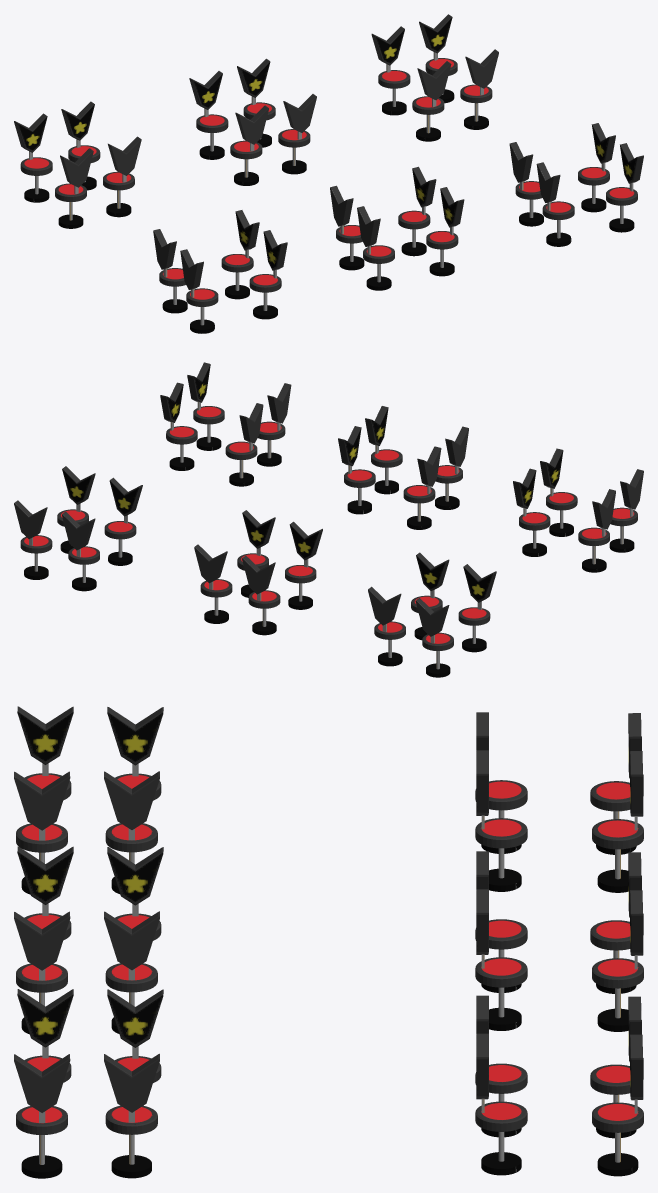
File: mdlSillas.obj
The picture shows the model from 3 angles, top to bottom: view 1: azimuth 30°, elevation 25°; view 2: azimuth 150°, elevation 25°; view 3: azimuth 270°, elevation 25°; orthographic projection. The views are drawn at different scales.
Parts seen in each view (by area): view 1: mdlSilla.011, mdlSilla.003, mdlSilla.007, mdlSilla.009, mdlSilla.004, mdlSilla.008, mdlSilla.001, mdlSilla.005, mdlSilla, mdlSilla.022, mdlSilla.023, mdlSilla.018 (+12 smaller); view 2: mdlSilla.008, mdlSilla.004, mdlSilla, mdlSilla.007, mdlSilla.006, mdlSilla.010, mdlSilla.002, mdlSilla.011, mdlSilla.003, mdlSilla.012, mdlSilla.019, mdlSilla.015 (+12 smaller); view 3: mdlSilla.015, mdlSilla.014, mdlSilla.019, mdlSilla.023, mdlSilla.018, mdlSilla.022, mdlSilla.010, mdlSilla.009, mdlSilla.001, mdlSilla.005, mdlSilla.006, mdlSilla.002 (+12 smaller).
Part boxes in pixels (box(x1,y1,x2,y2)): mdlSilla.011: box(371, 26, 410, 115); mdlSilla.003: box(14, 113, 52, 202); mdlSilla.007: box(189, 71, 228, 159); mdlSilla.009: box(460, 49, 498, 129); mdlSilla.004: box(230, 105, 268, 185); mdlSilla.008: box(412, 61, 451, 141); mdlSilla.001: box(103, 136, 141, 217); mdlSilla.005: box(278, 94, 316, 174); mdlSilla: box(55, 148, 93, 228); mdlSilla.022: box(249, 230, 287, 319); mdlSilla.023: box(221, 210, 259, 299); mdlSilla.018: box(426, 187, 464, 276); mdlSilla.008: box(104, 477, 142, 565); mdlSilla.004: box(285, 521, 322, 609); mdlSilla: box(458, 564, 496, 652); mdlSilla.007: box(242, 555, 280, 635); mdlSilla.006: box(194, 544, 232, 623); mdlSilla.010: box(14, 500, 52, 579); mdlSilla.002: box(368, 586, 405, 666); mdlSilla.011: box(62, 511, 99, 591); mdlSilla.003: box(415, 598, 453, 677); mdlSilla.012: box(225, 403, 263, 486); mdlSilla.019: box(338, 426, 375, 514); mdlSilla.015: box(160, 382, 197, 470); mdlSilla.015: box(104, 1053, 159, 1178); mdlSilla.014: box(14, 1054, 70, 1178); mdlSilla.019: box(104, 911, 159, 1033); mdlSilla.023: box(104, 771, 159, 893); mdlSilla.018: box(14, 911, 70, 1034); mdlSilla.022: box(14, 771, 70, 894); mdlSilla.010: box(592, 1034, 643, 1176); mdlSilla.009: box(475, 1033, 527, 1175); mdlSilla.001: box(475, 750, 527, 891); mdlSilla.005: box(475, 889, 527, 1030); mdlSilla.006: box(592, 890, 643, 1031); mdlSilla.002: box(592, 751, 643, 892).
Bounding box in the file's own units: 19.29 × 3.08 × 14.52.
1 material, 1 textured.
